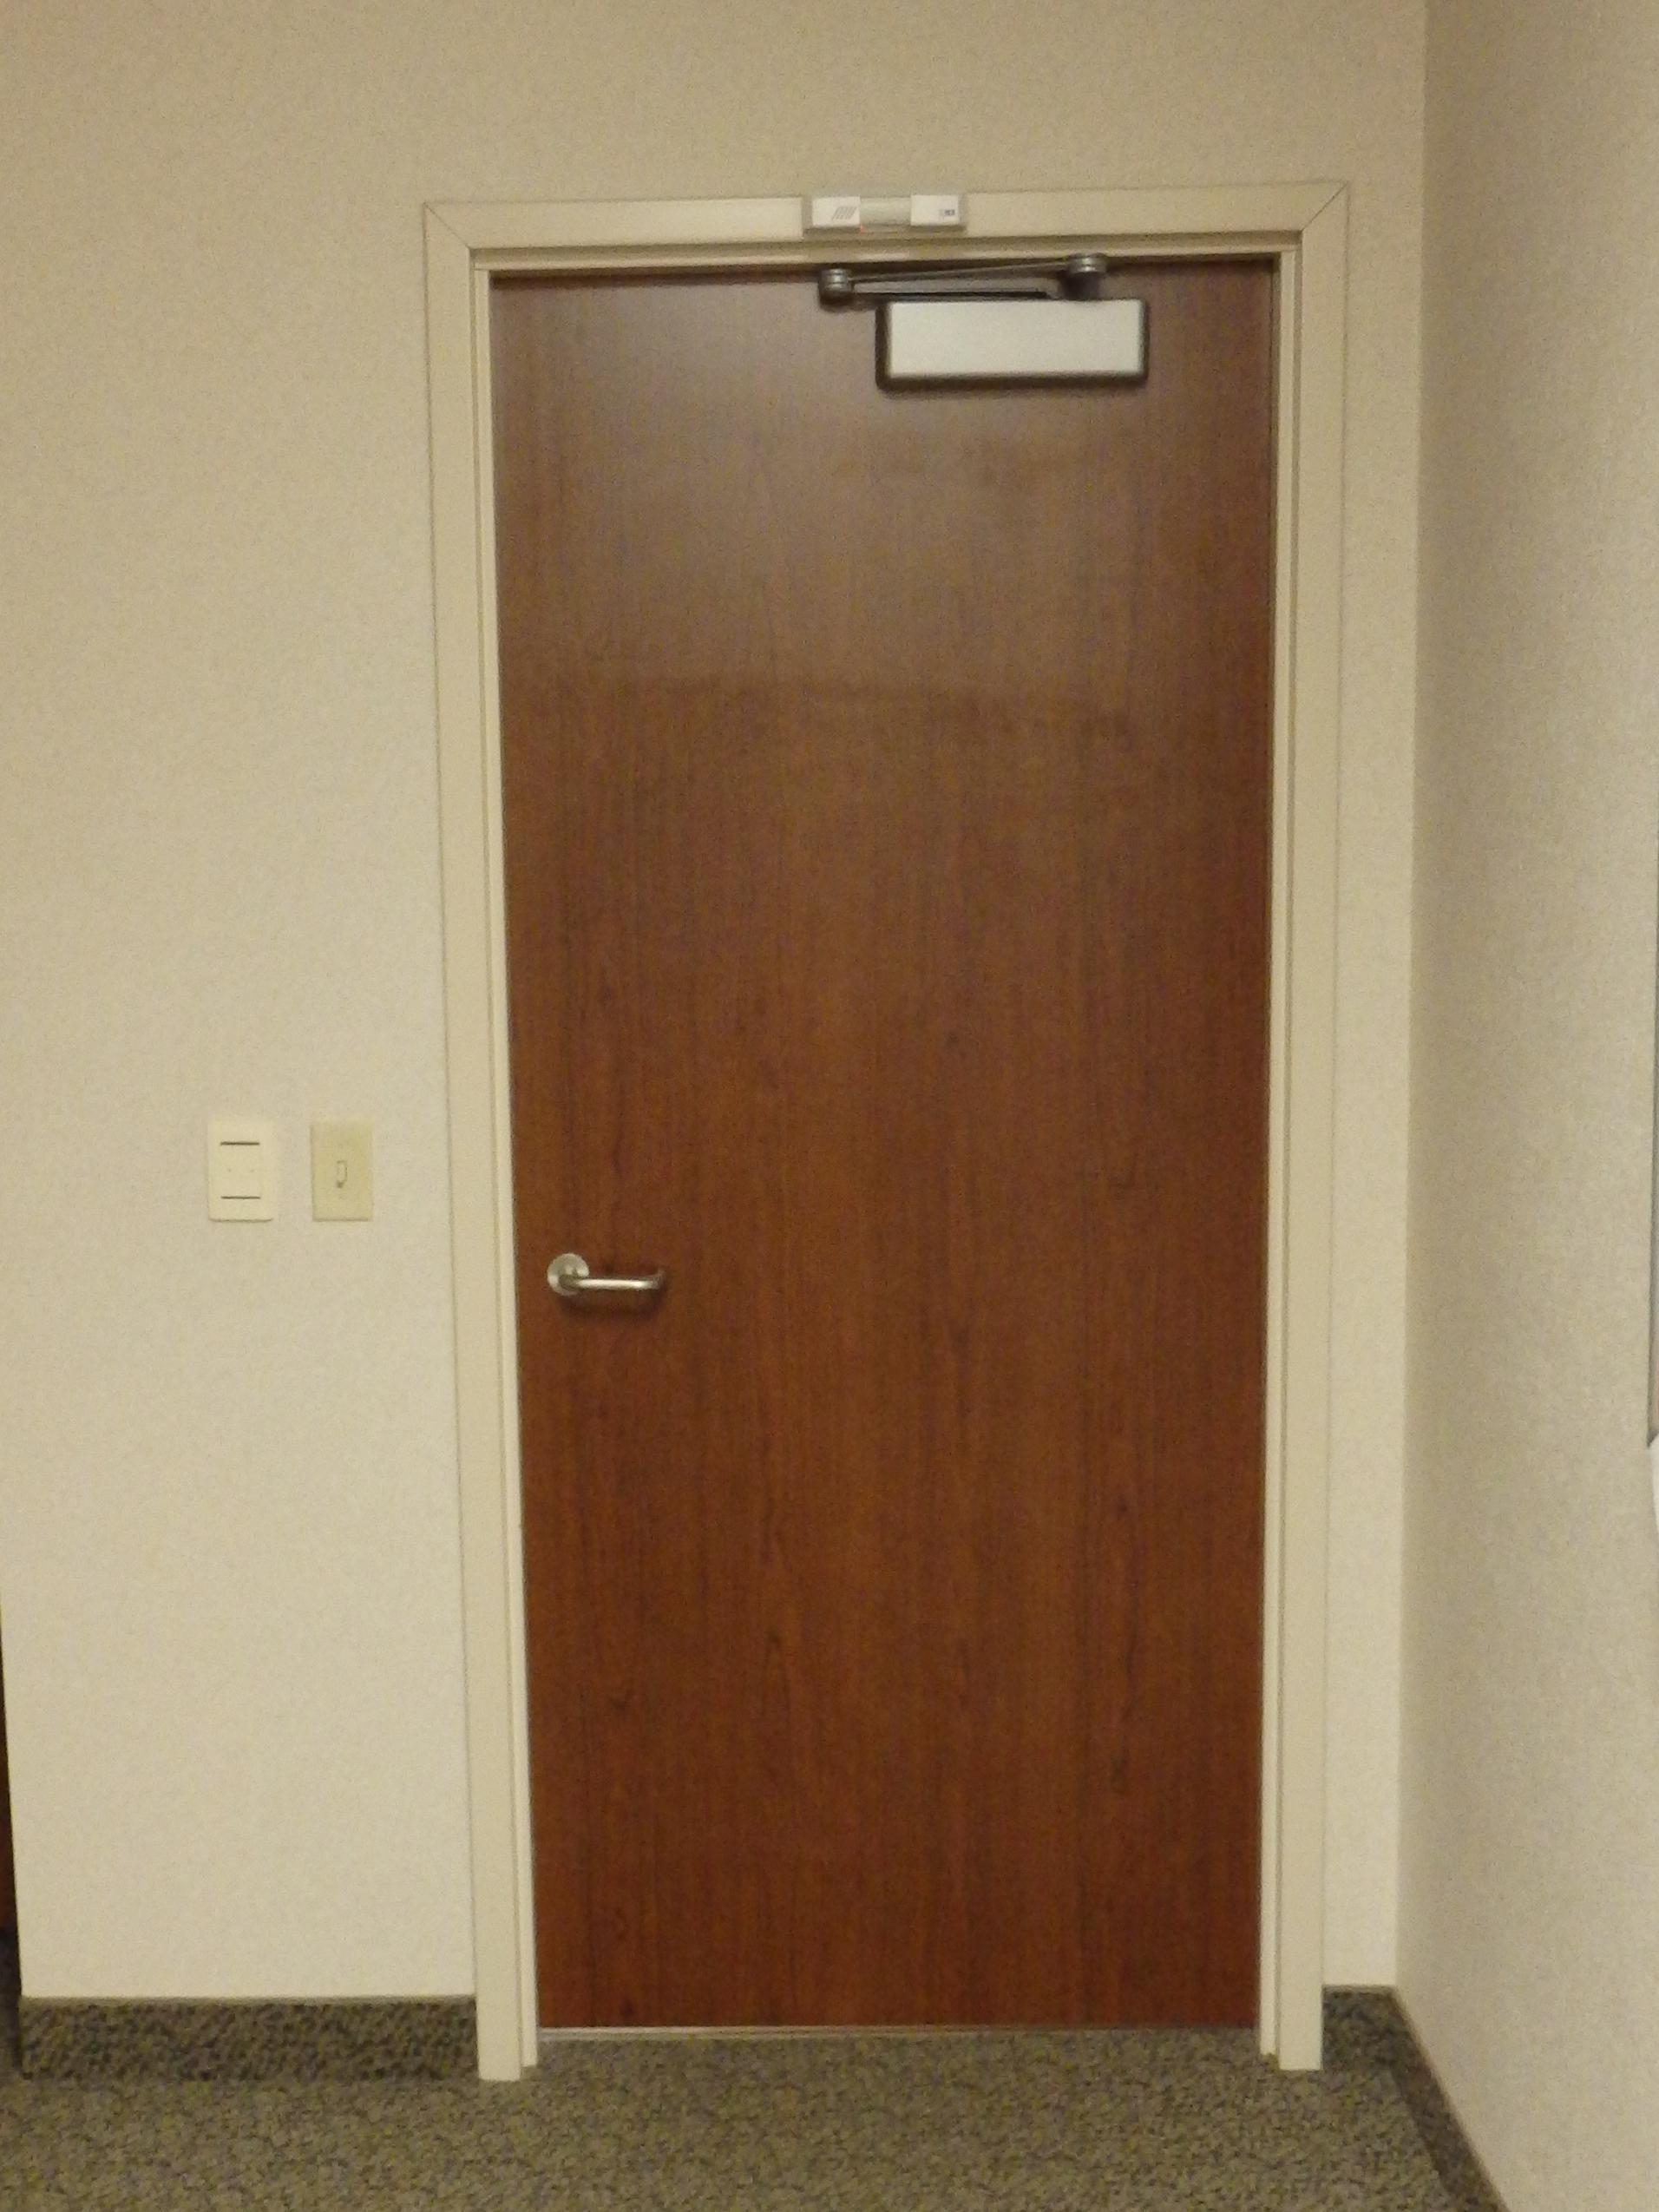door: (460, 241, 1286, 2048)
